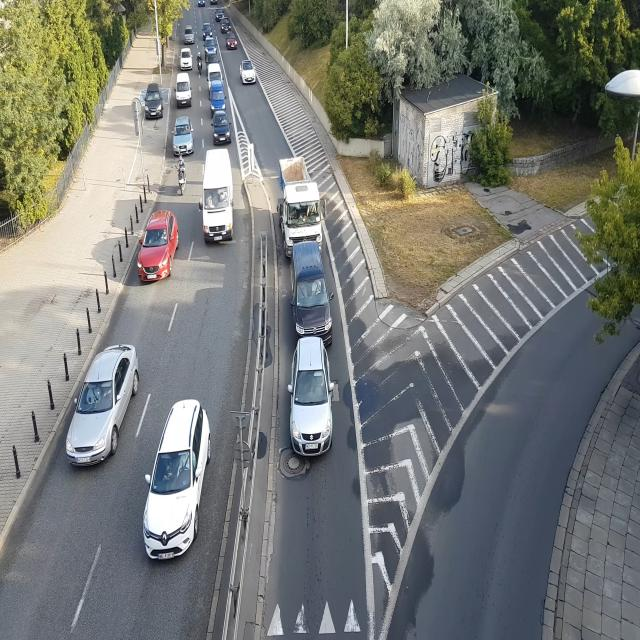car: (141, 400, 208, 561), (66, 337, 140, 471), (290, 343, 334, 468), (292, 243, 334, 336), (200, 150, 238, 244), (138, 208, 179, 292), (174, 116, 195, 156), (173, 73, 194, 111), (143, 86, 165, 120), (212, 110, 232, 145), (208, 81, 228, 113), (237, 62, 257, 83), (208, 64, 223, 86), (181, 52, 193, 71), (204, 42, 218, 58), (184, 29, 197, 43), (202, 23, 213, 39), (226, 38, 239, 51), (220, 17, 230, 32), (215, 8, 225, 20), (198, 0, 206, 9), (210, 0, 220, 5)
motorcycle: (175, 153, 188, 199)
truck: (277, 155, 324, 248)
